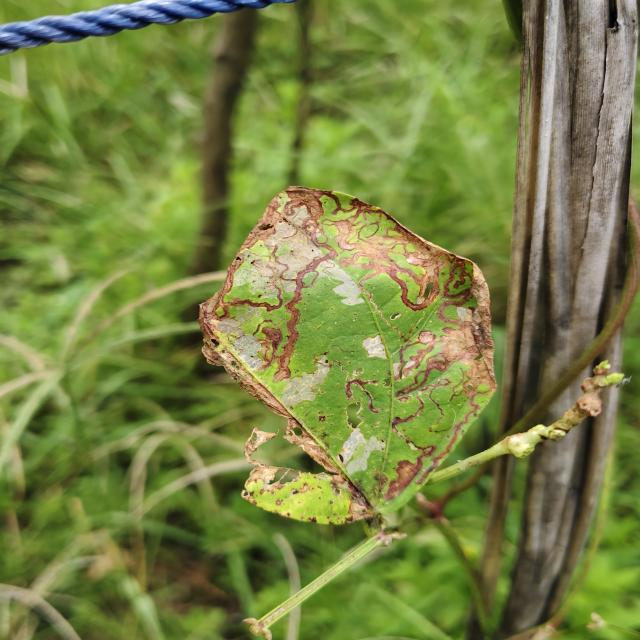leaf-moderate: (199, 186, 520, 541)
